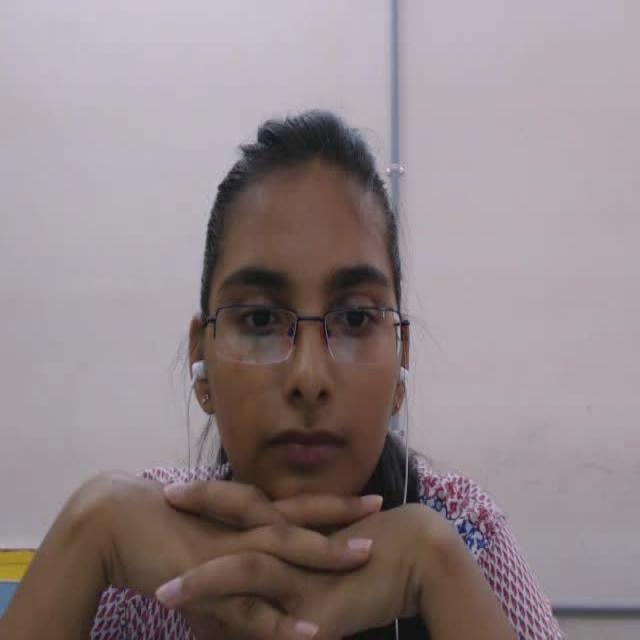Bored: (162, 101, 416, 532)
